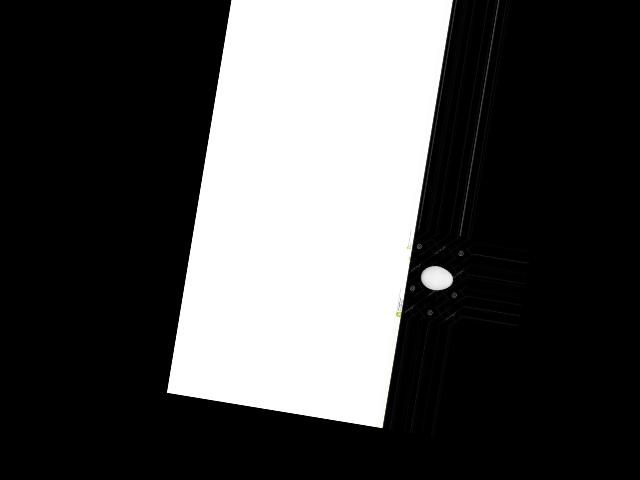egg: (418, 262, 454, 292)
